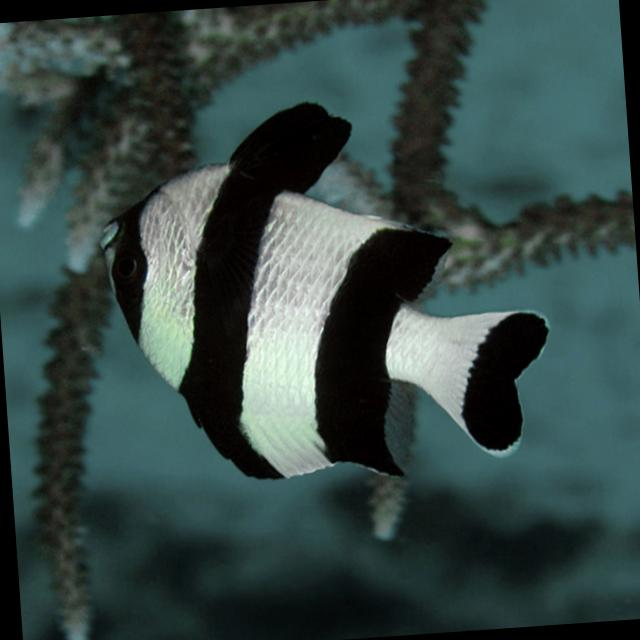ThreeStripedDamselfish: (90, 82, 554, 505)
